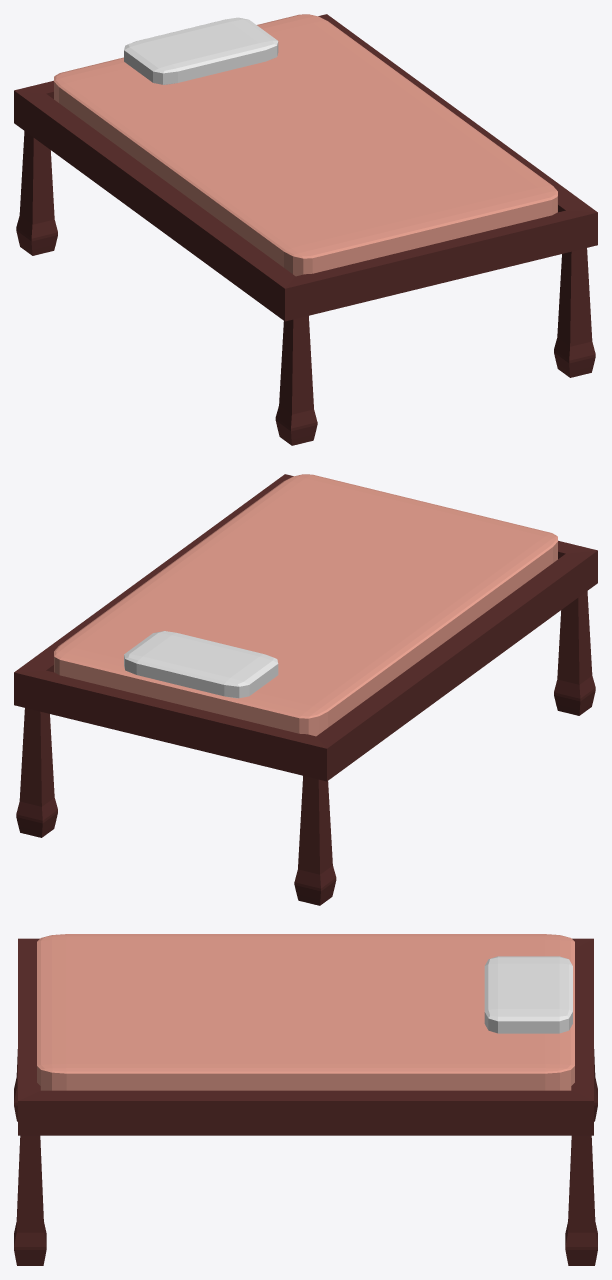
File: CamaEmpregada.fbx
The picture shows the model from 3 angles, top to bottom: view 1: azimuth 30°, elevation 25°; view 2: azimuth 150°, elevation 25°; view 3: azimuth 270°, elevation 25°; orthographic projection. The views are drawn at different scales.
Parts seen in each view (by area): view 1: Colchao, suporte2, Pernas, Travesseiro; view 2: Colchao, suporte2, Pernas, Travesseiro; view 3: Colchao, suporte2, Pernas, Travesseiro.
Boxes of the visible parts, x1,y1,x2,y2 form: Colchao: (54,14,557,276); suporte2: (14,14,597,321); Pernas: (16,131,595,445); Travesseiro: (124,17,278,84); Colchao: (54,474,557,736); suporte2: (14,474,597,781); Pernas: (16,591,595,905); Travesseiro: (124,631,278,698); Colchao: (37,934,574,1090); suporte2: (18,938,593,1135); Pernas: (14,1049,597,1265); Travesseiro: (484,956,572,1033).
Size of the model in its own units: 200 by 116 by 304.
